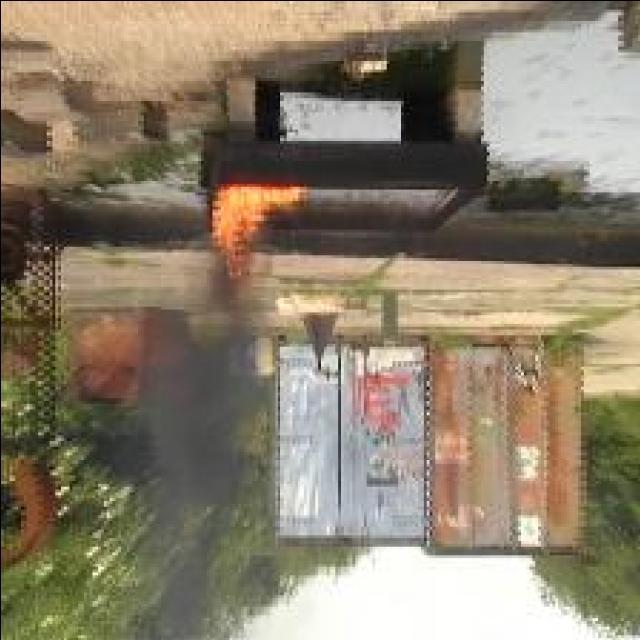Fire: (208, 185, 303, 298)
